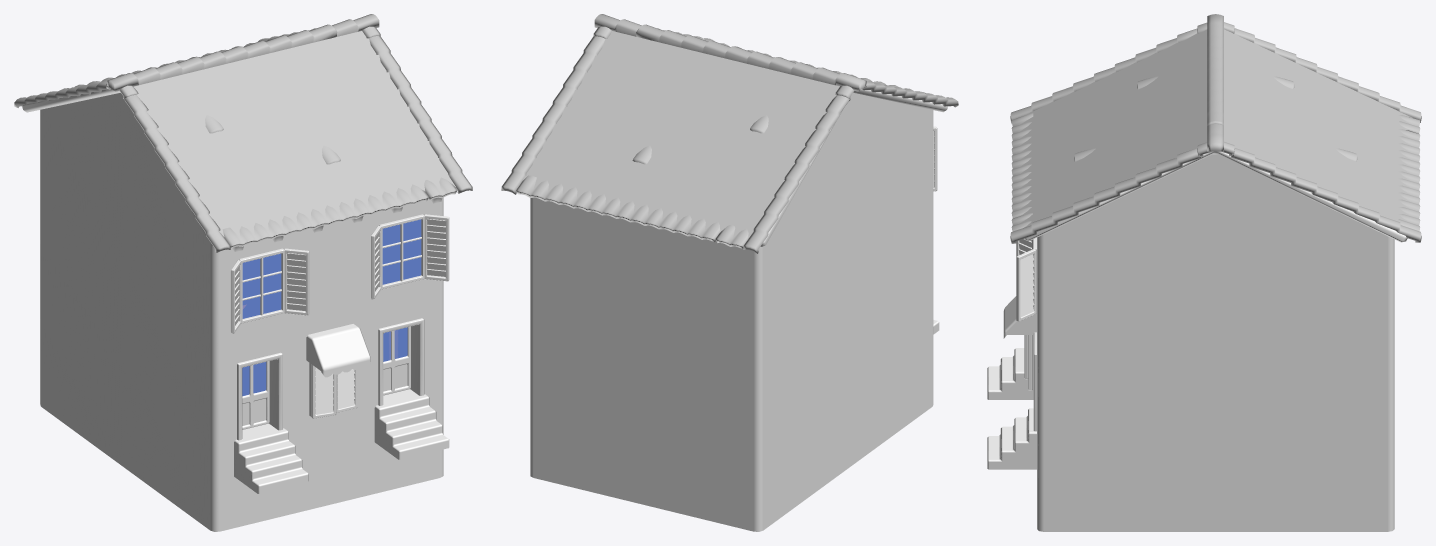
File: BackgroundBuilding7_blue.fbx
3 renders of one model, left to right at view 1: azimuth 30°, elevation 25°; view 2: azimuth 150°, elevation 25°; view 3: azimuth 270°, elevation 25°, orthographic.
Parts seen in each view (by area): view 1: Blue; view 2: Blue; view 3: Blue.
Boxes of the visible parts, <box> form: Blue: <box>14,14,472,531</box>; Blue: <box>501,14,958,531</box>; Blue: <box>987,14,1421,531</box>.
Size of the model in its own units: 868 by 1228 by 1214.
